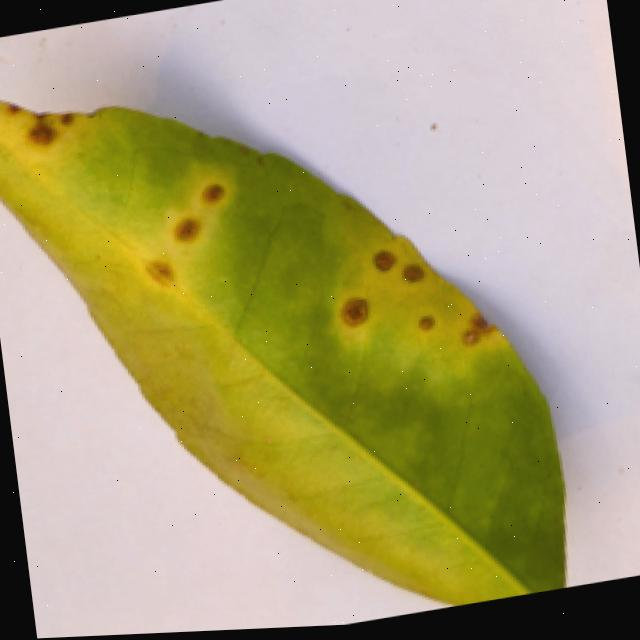canker: (0, 100, 566, 603), (319, 235, 544, 365), (112, 179, 227, 288), (0, 101, 91, 157)
